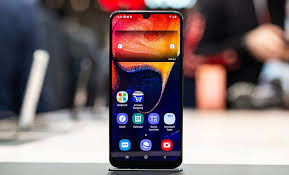samsung: (108, 5, 187, 174)
